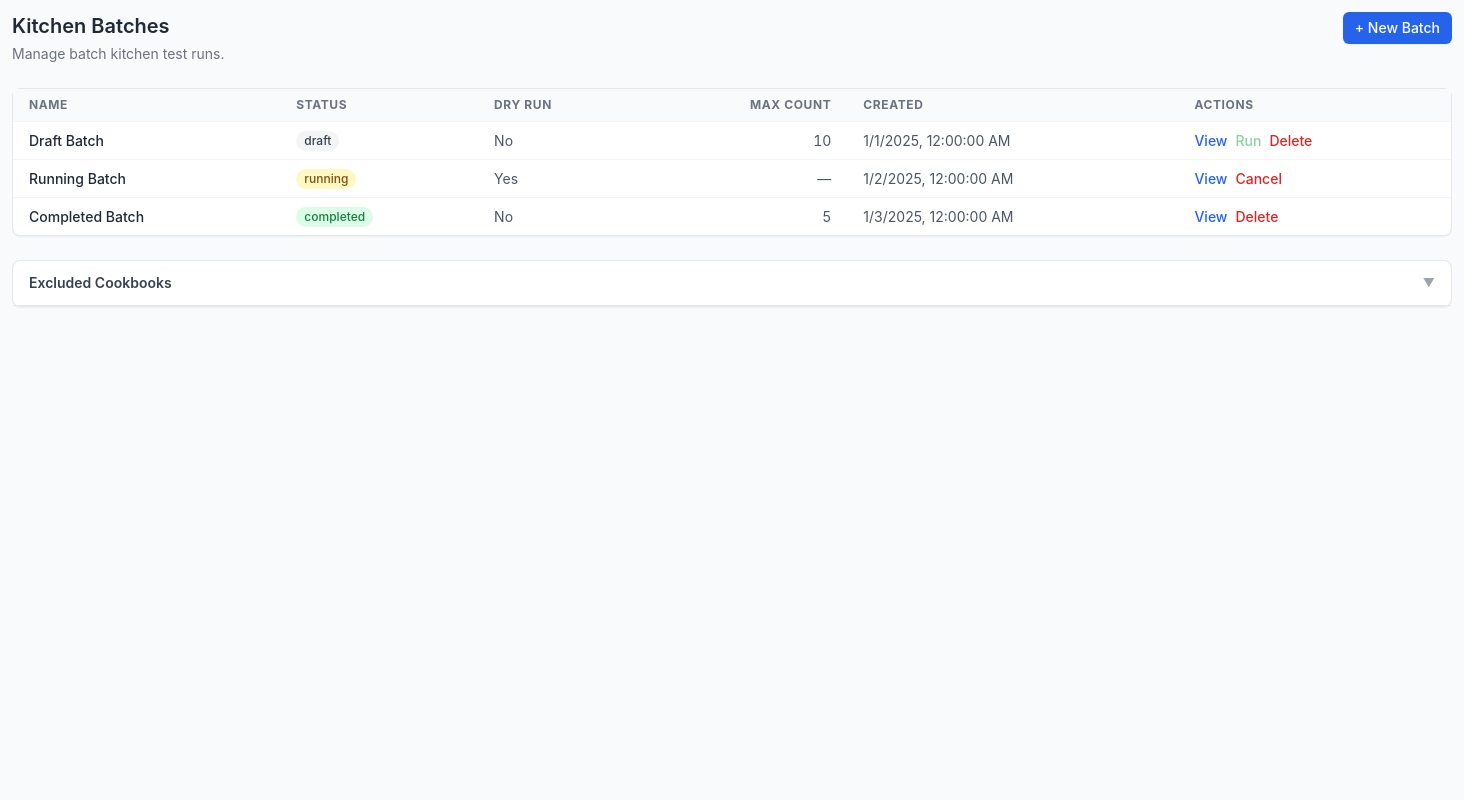
Test case: KitchenBatchesPage › refreshes instances on the poll tick while running
Expected: the text "Running Batch" is shown, 13,160 -> 280,198
Click the button "View" in the row of "Running Batch" at (1211, 178), box 1194,168 -> 1228,188
Wait 5000 ms
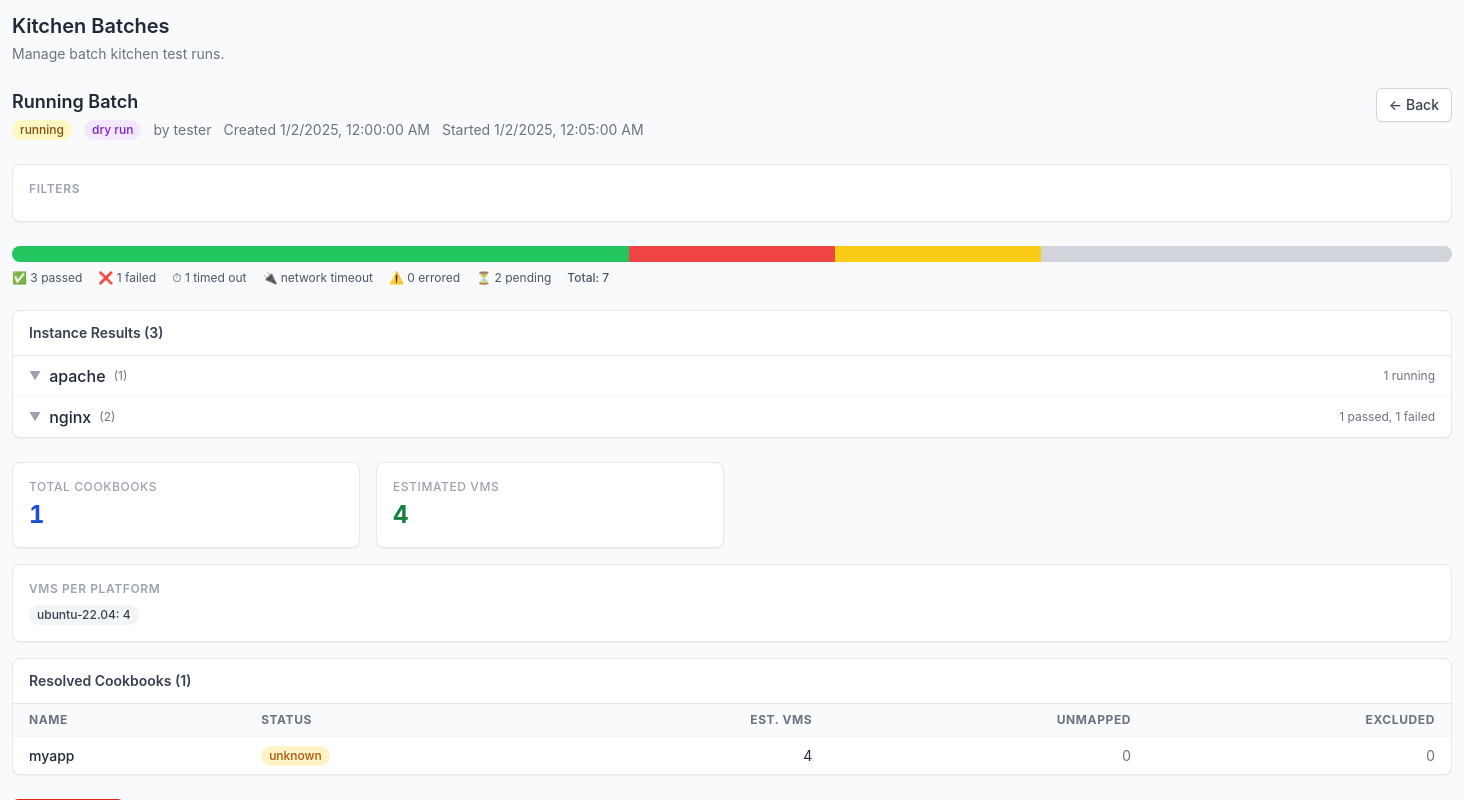
Now the heading "Instance Results (3)" is shown, box 29,324 -> 164,341
